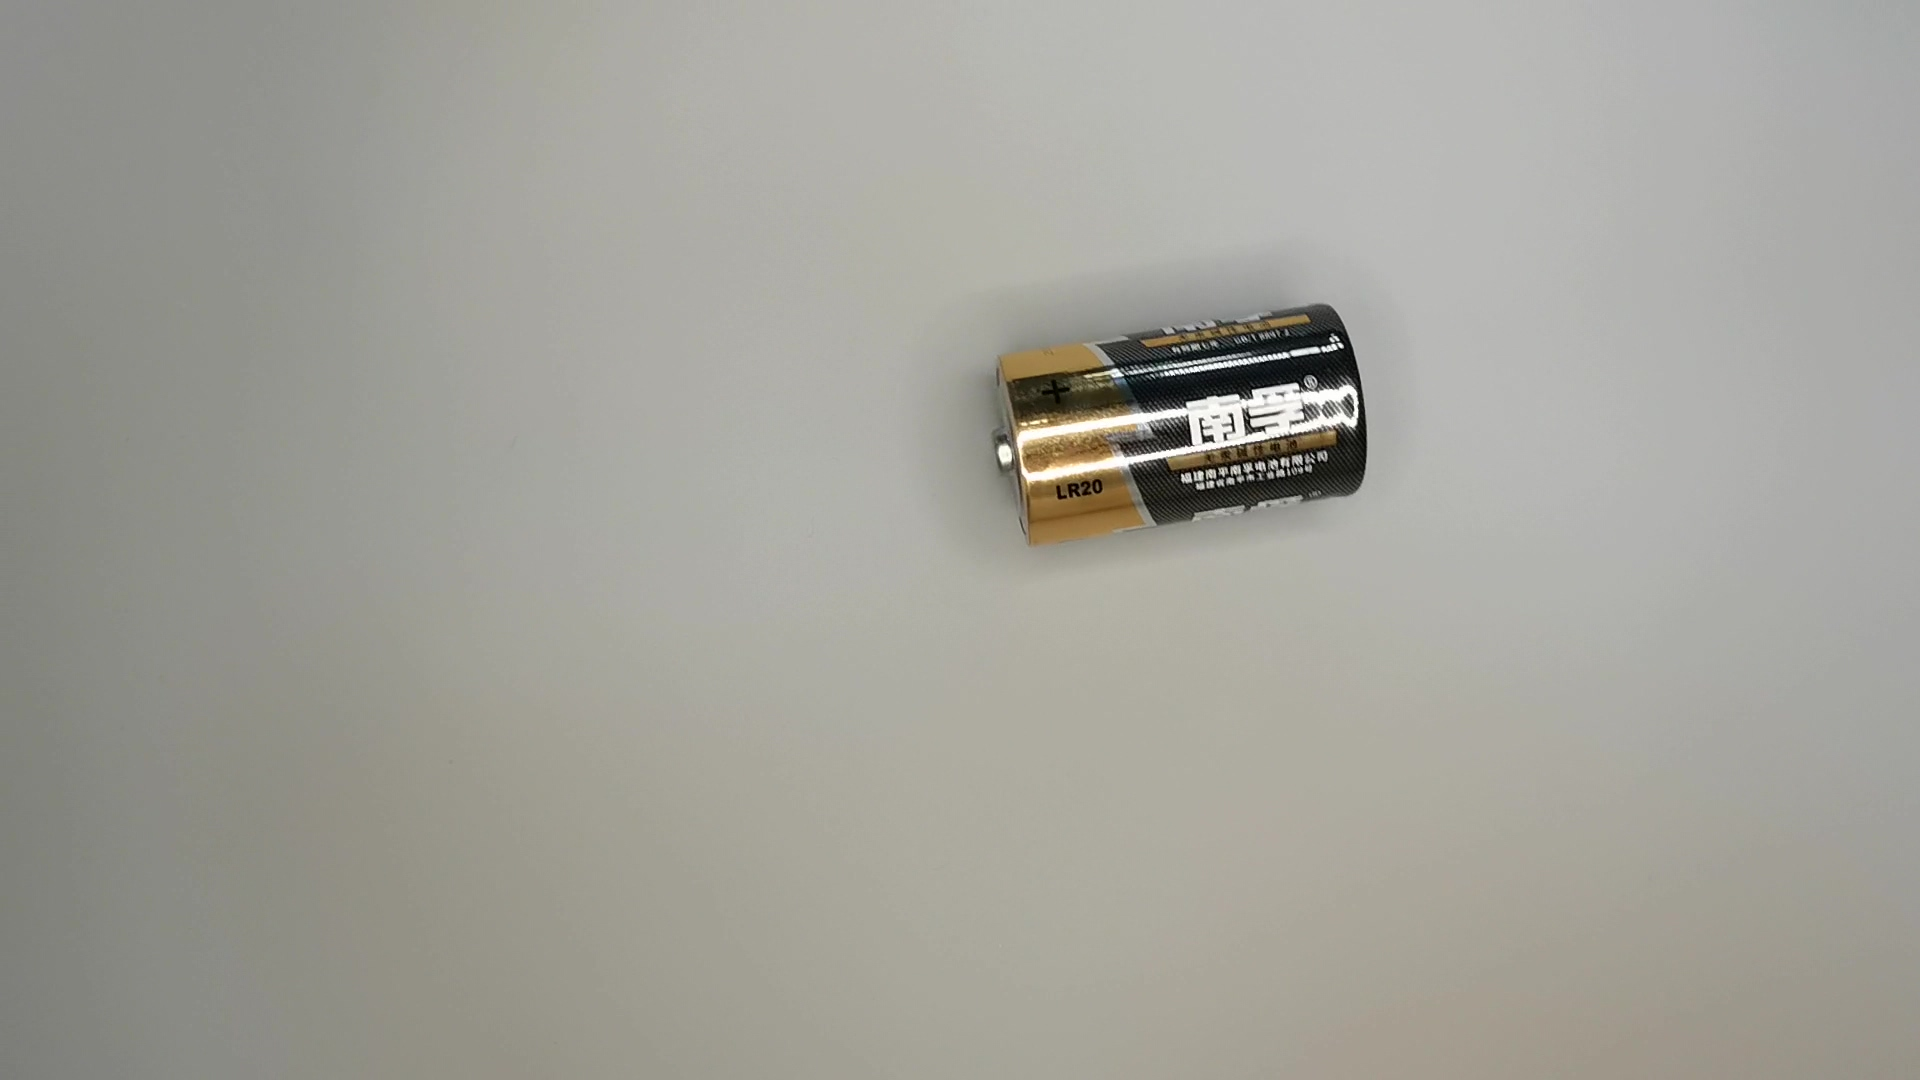battery: (985, 298, 1381, 563)
